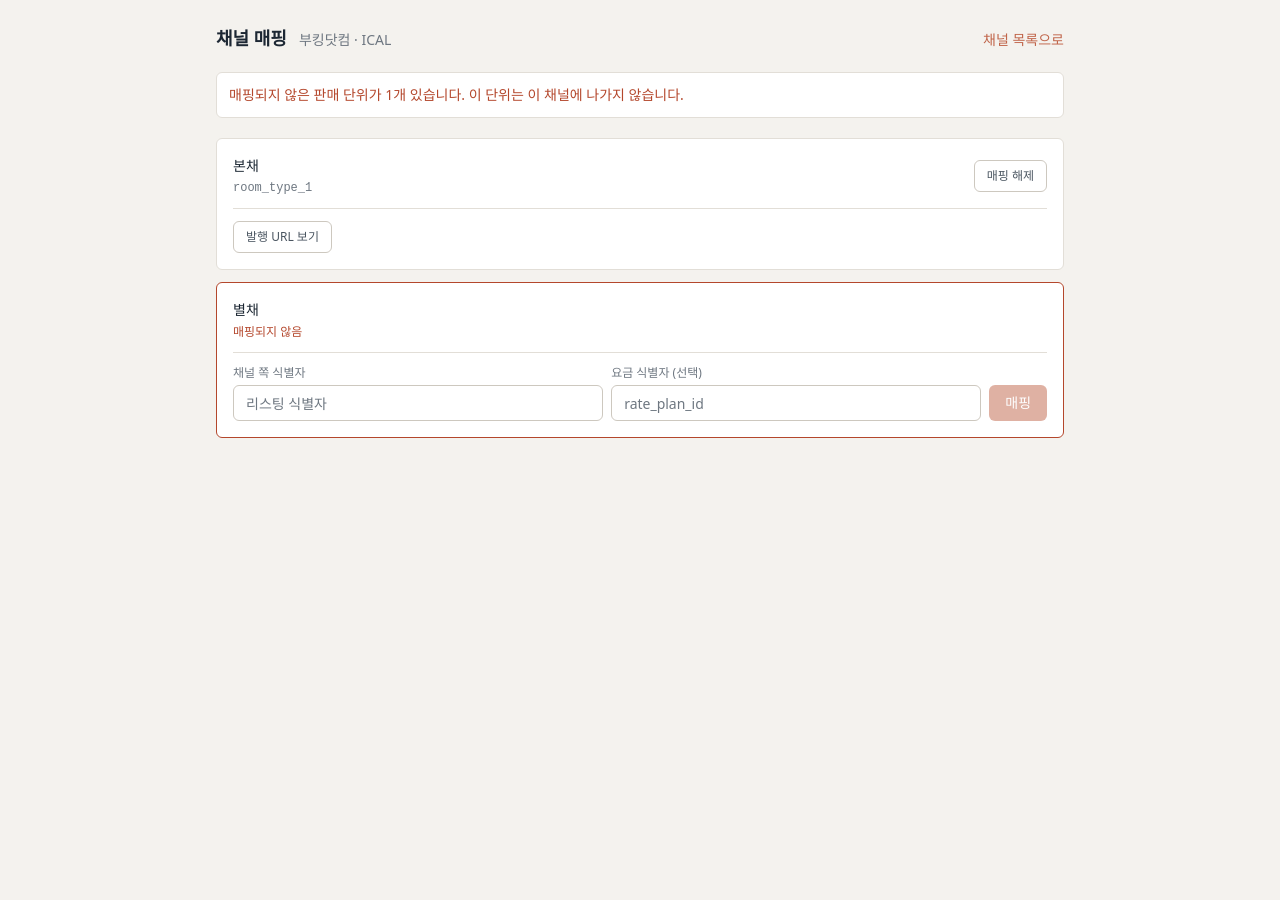
채널 매핑 › iCal 매핑을 해제하려 하면 발행 주소가 바뀐다고 적는다
Expected: the text "room_type_1" is shown, [233, 180, 312, 196]
Click the button "매핑 해제": point(1010, 176) [974, 160, 1047, 192]
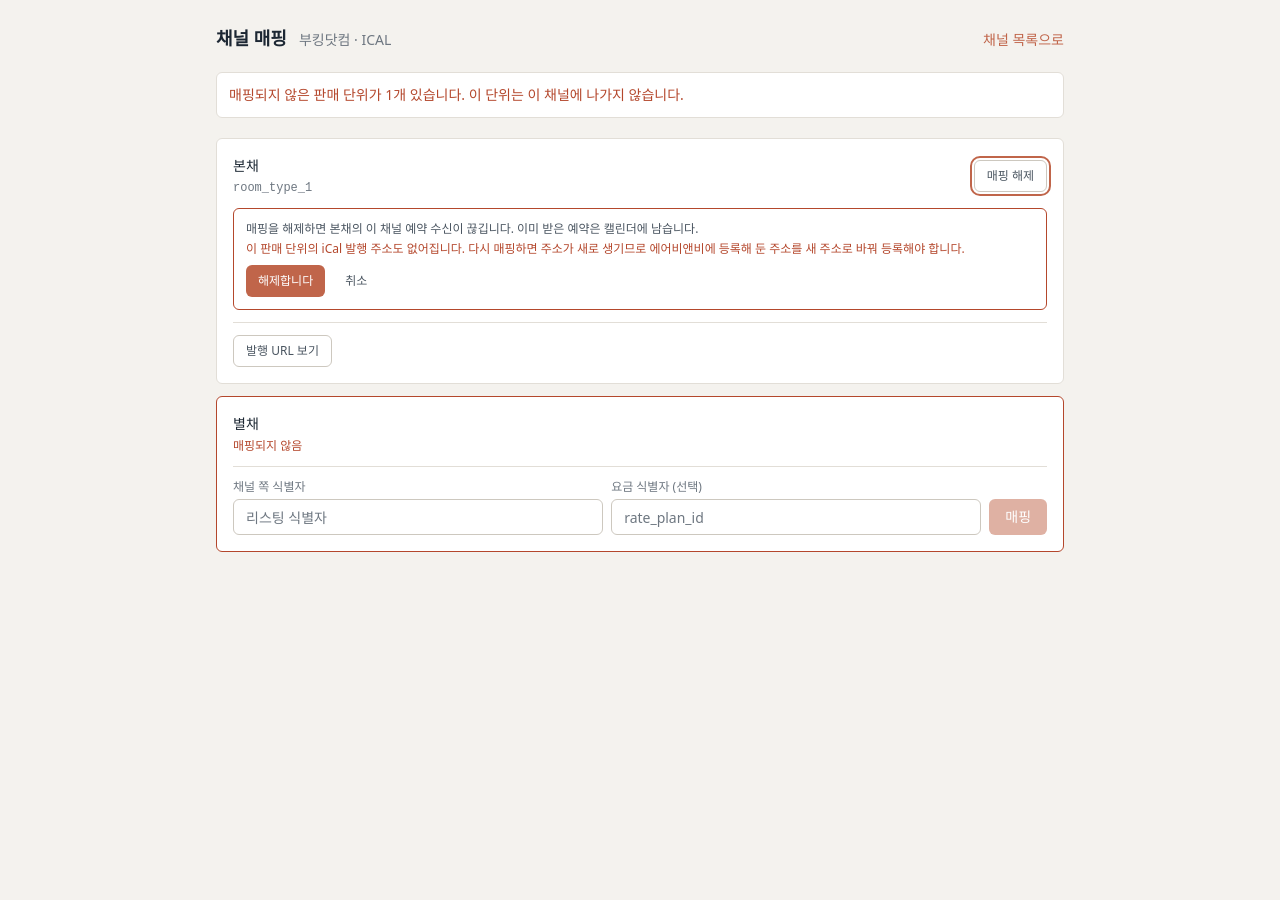
Expected: the dialog with test id "unmap-confirm-11" shows "발행 주소", [246, 240, 646, 257]
Expected: the dialog with test id "unmap-confirm-11" shows "에어비앤비", [649, 240, 705, 257]
